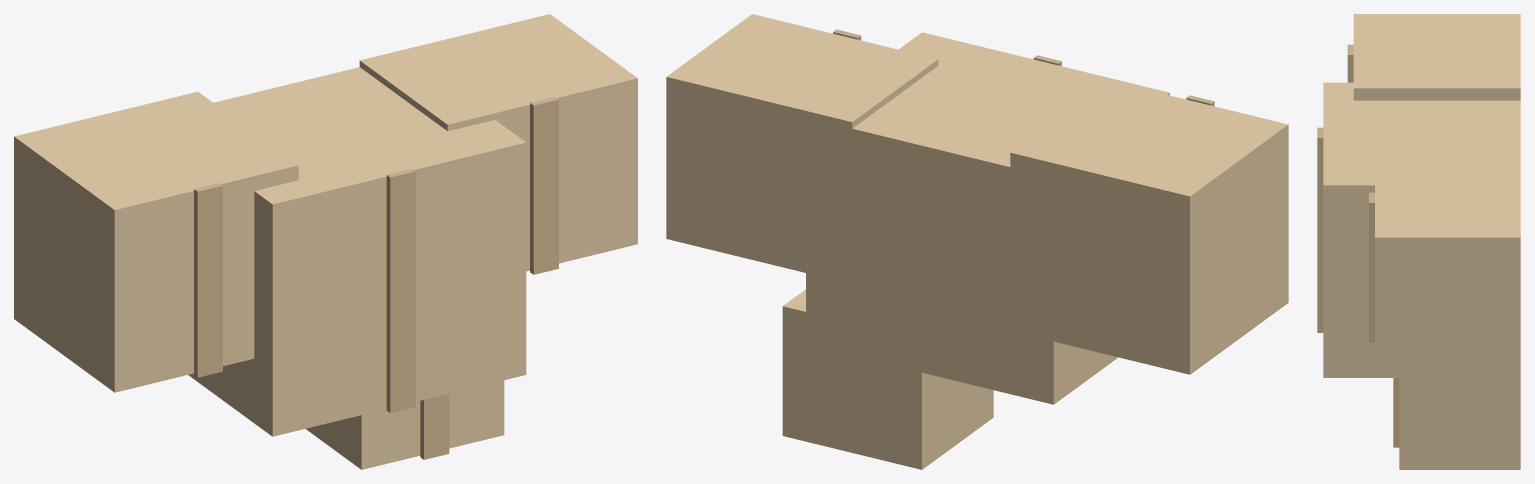
The model's file is 23_cardboard_boxes.glb.
The picture shows the model from 3 angles, left to right: view 1: azimuth 30°, elevation 25°; view 2: azimuth 150°, elevation 25°; view 3: azimuth 270°, elevation 25°; orthographic projection. The views are drawn at different scales.
Parts seen in each view (by area): view 1: part_1, part_3, part_5, part_7, part_2, part_4, part_6, part_8; view 2: part_1, part_3, part_5, part_7; view 3: part_5, part_1, part_3, part_7, part_2, part_6, part_8, part_4.
Part boxes in pixels (box(x1,y1,x2,y2)): part_1: box(188, 67, 526, 436); part_3: box(14, 91, 298, 392); part_5: box(359, 14, 637, 271); part_7: box(305, 380, 504, 469); part_2: box(386, 169, 415, 413); part_4: box(194, 183, 222, 377); part_6: box(530, 97, 558, 274); part_8: box(420, 394, 449, 459); part_1: box(806, 32, 1169, 404); part_3: box(1010, 80, 1288, 374); part_5: box(666, 14, 938, 283); part_7: box(782, 289, 993, 469); part_5: box(1375, 160, 1520, 374); part_1: box(1323, 82, 1520, 377); part_3: box(1353, 14, 1520, 100); part_7: box(1399, 375, 1520, 469); part_2: box(1317, 127, 1323, 332); part_6: box(1369, 192, 1374, 342); part_8: box(1393, 378, 1399, 447); part_4: box(1347, 44, 1353, 82).
Size of the model in its own units: 1.69 by 1.05 by 0.67.
